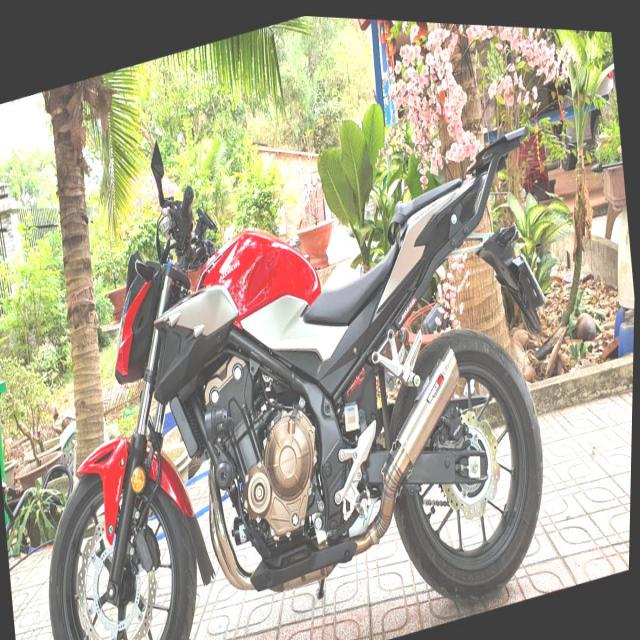CB500F: (3, 2, 583, 639)
